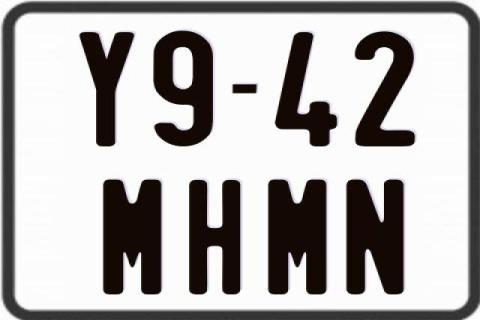0: (353, 31, 418, 148), (272, 32, 337, 147), (150, 30, 213, 146)
H: (188, 180, 246, 294)
M: (101, 177, 161, 293), (268, 180, 328, 296)
N: (345, 178, 403, 294)
Y: (78, 31, 134, 151)
